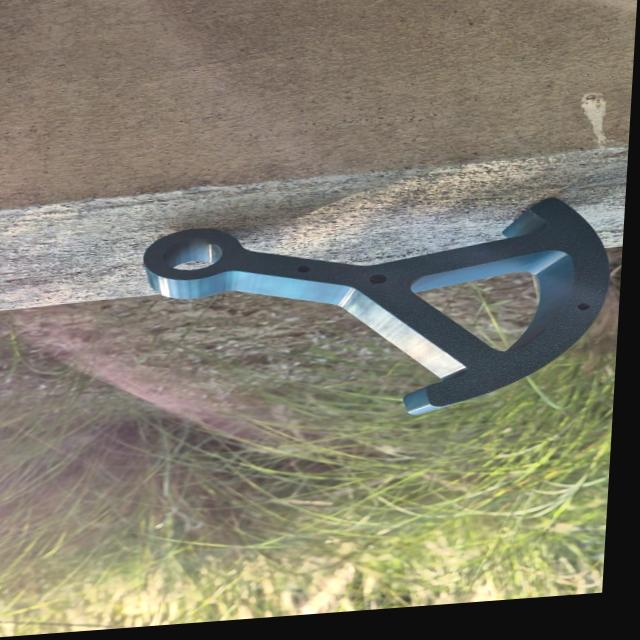haptic: (128, 189, 617, 437)
